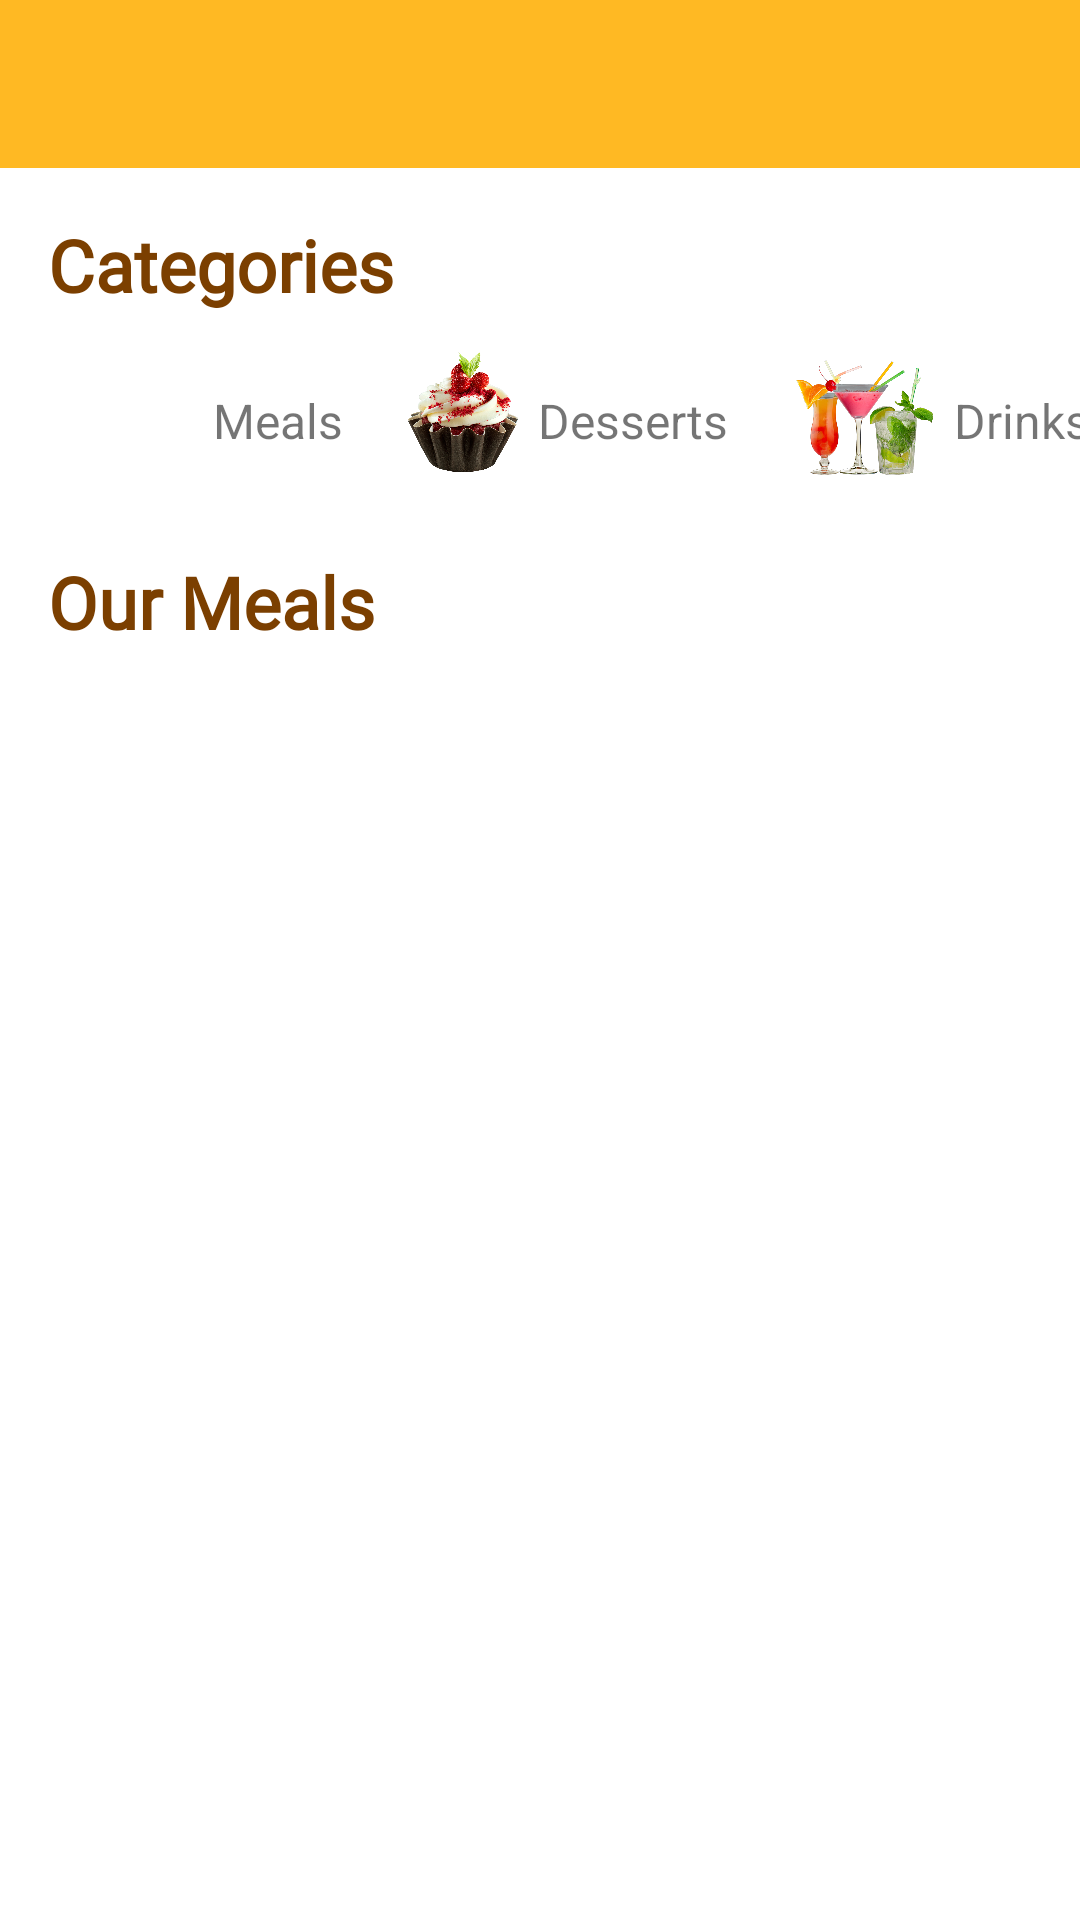

Icons on this 1080px x 1920px Android screen, each with its box as detection(x1, y1, x2, y2):
dessertt: detection(408, 352, 518, 472)
